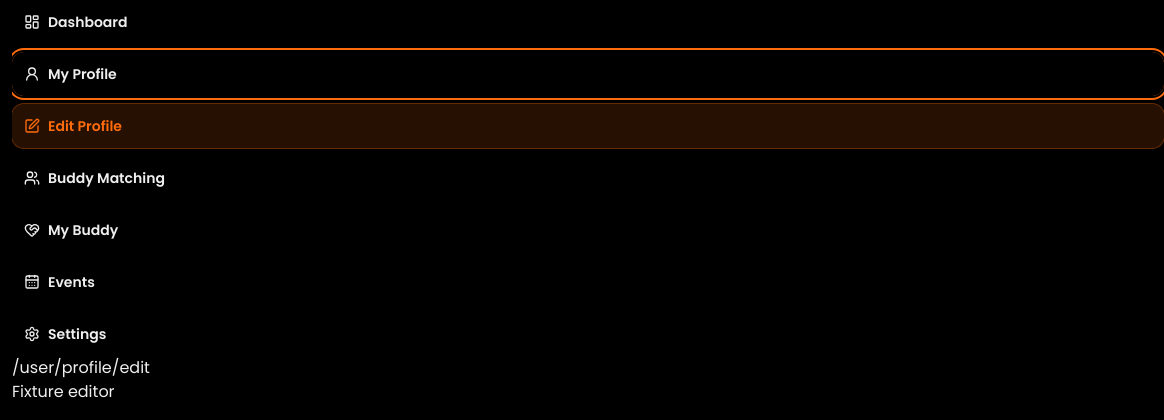
Test case: FE-022 student sidebar navigation › allows native links to supplied released pages and updates active state in en
This screenshot has width=1164, height=420.
Click the link "My Profile": click(82, 74) [12, 52, 1163, 96]
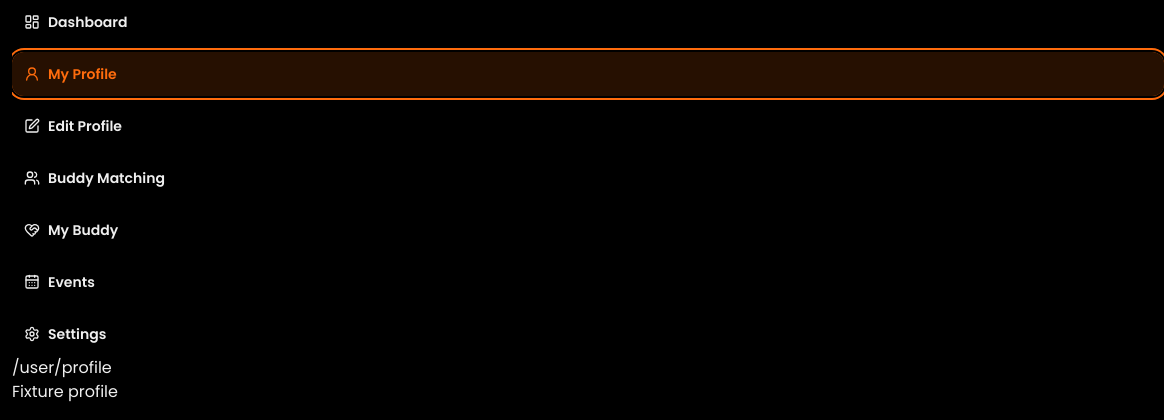
Expected: the heading "Fixture profile" is shown, [12, 380, 118, 403]
Click the link "Events": click(59, 282) [24, 272, 95, 292]
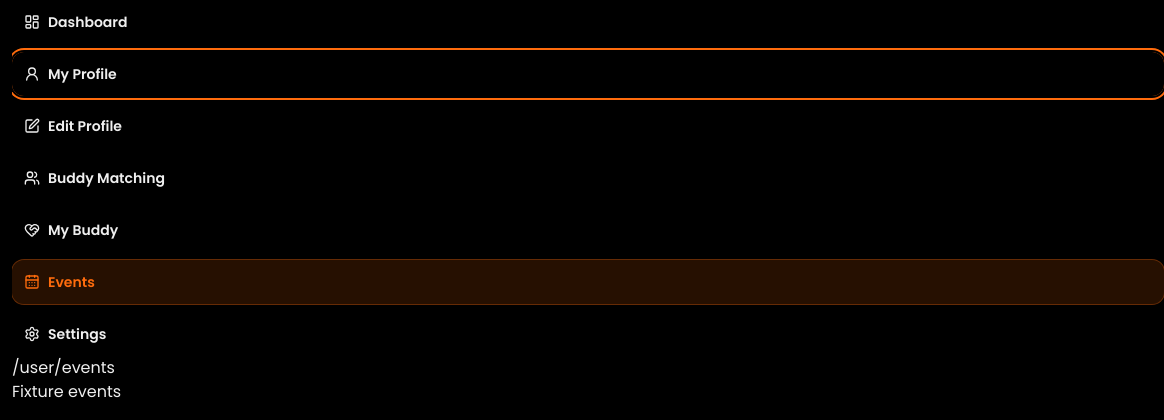
Expected: the heading "Fixture events" is shown, [12, 380, 121, 403]
Expected: the text with test id "location" reads "/user/events", [12, 356, 115, 379]
